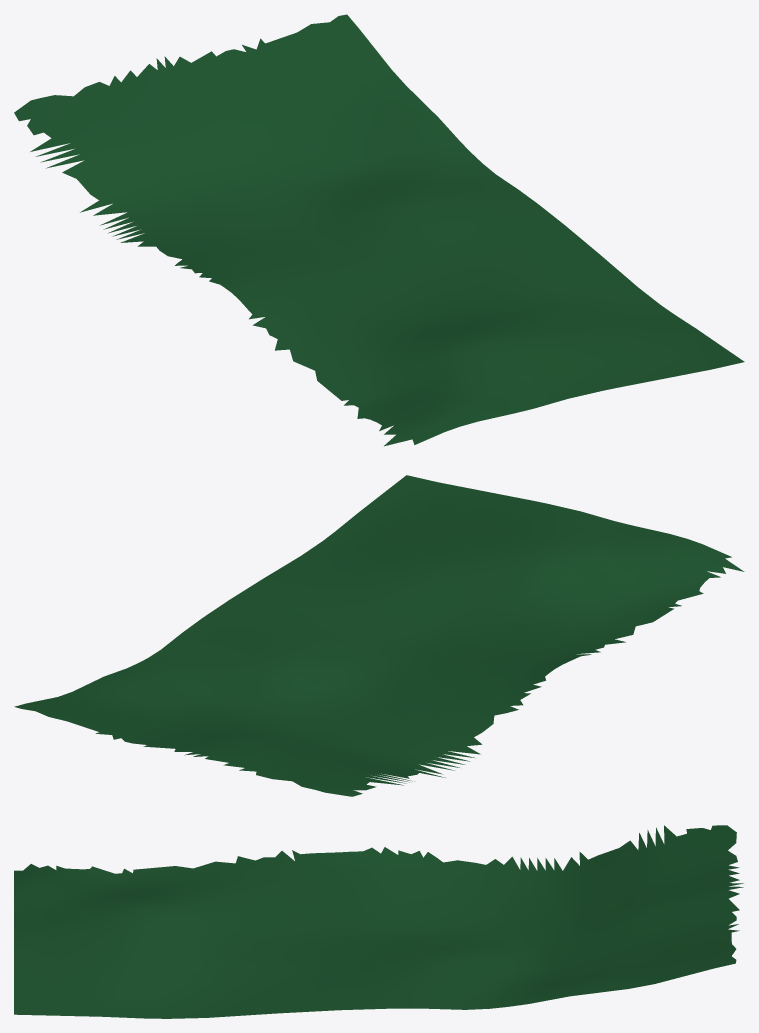
File: payo_land_xm5_y2_lod1.glb
3 renders of one model, top to bottom at view 1: azimuth 30°, elevation 25°; view 2: azimuth 150°, elevation 25°; view 3: azimuth 270°, elevation 25°, orthographic. The views are drawn at different scales.
Visible parts, largest first — view 1: payo_land_xm5_y2; view 2: payo_land_xm5_y2; view 3: payo_land_xm5_y2.
Part boxes in pixels (<box>): payo_land_xm5_y2: <box>14,14,744,446</box>; payo_land_xm5_y2: <box>14,475,744,796</box>; payo_land_xm5_y2: <box>14,825,743,1018</box>.
Size of the model in its own units: 133 by 22.26 by 260.
